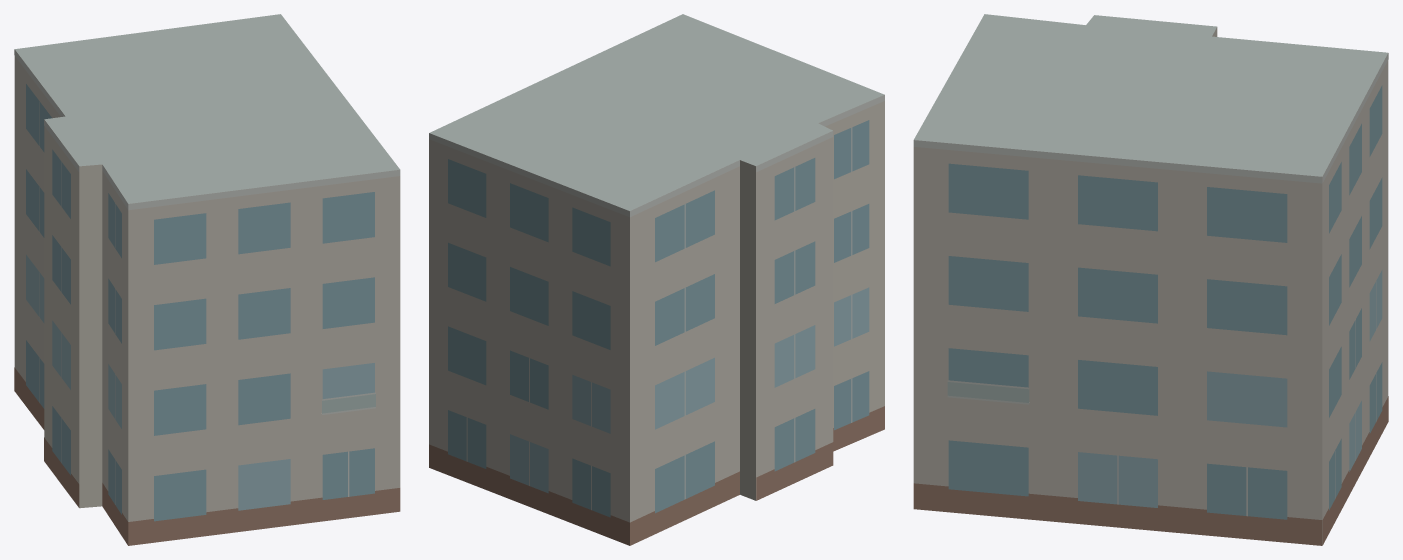
Rendered from survey-upis-32663567.glb.
3 views of the same model, side by side, from view 1: azimuth 30°, elevation 25°; view 2: azimuth 150°, elevation 25°; view 3: azimuth 270°, elevation 25° (orthographic). The views are drawn at different scales.
Visible parts, largest first — view 1: survey-upis-32663567.tmp; view 2: survey-upis-32663567.tmp; view 3: survey-upis-32663567.tmp.
Part boxes in pixels (x1=…): survey-upis-32663567.tmp: x1=14, y1=14, x2=400, y2=545; survey-upis-32663567.tmp: x1=429, y1=14, x2=884, y2=545; survey-upis-32663567.tmp: x1=913, y1=14, x2=1388, y2=545.
Size of the model in its own units: 12.55 by 13.25 by 15.46.
